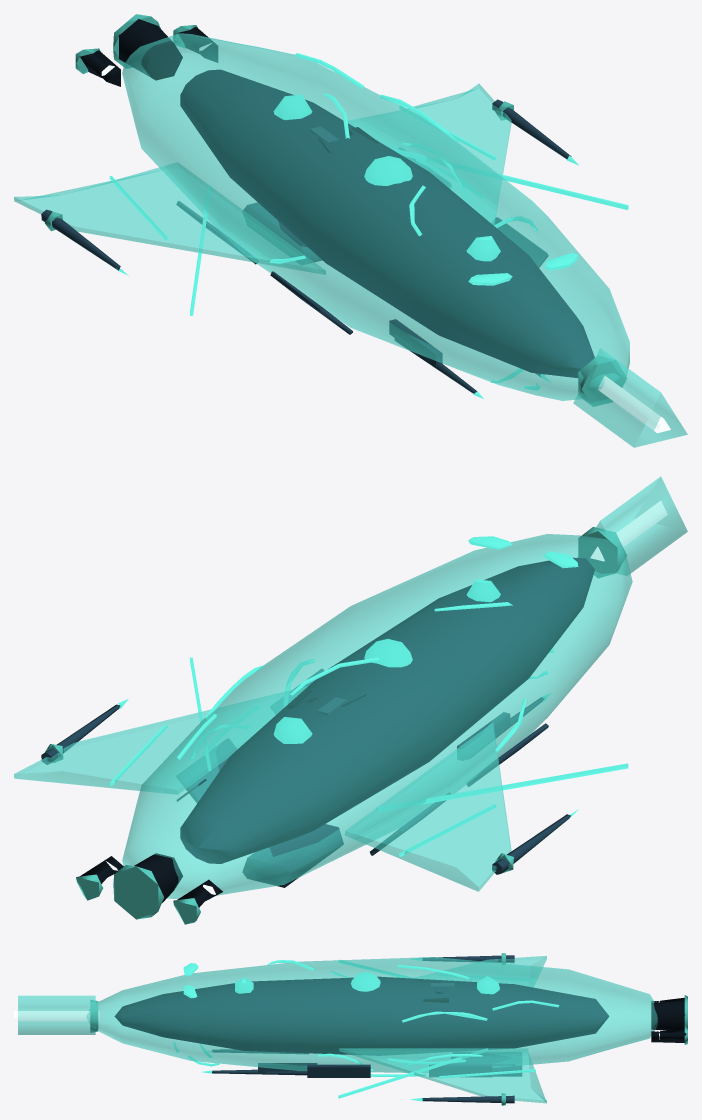
Rendered from refleks-swietlisci-trade-19-lod1.glb.
The picture shows the model from 3 angles, top to bottom: view 1: azimuth 30°, elevation 25°; view 2: azimuth 150°, elevation 25°; view 3: azimuth 270°, elevation 25°; orthographic projection. The views are drawn at different scales.
Size of the model in its own units: 9.17 by 3.06 by 17.91.
